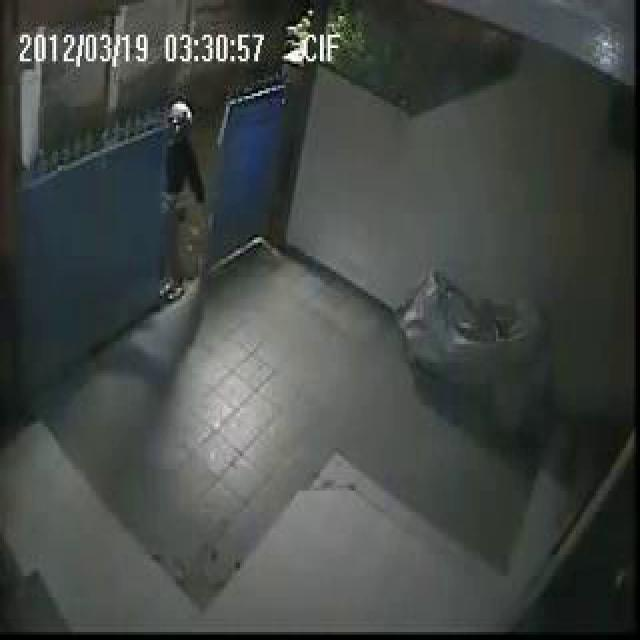stealing: (116, 28, 333, 526)
